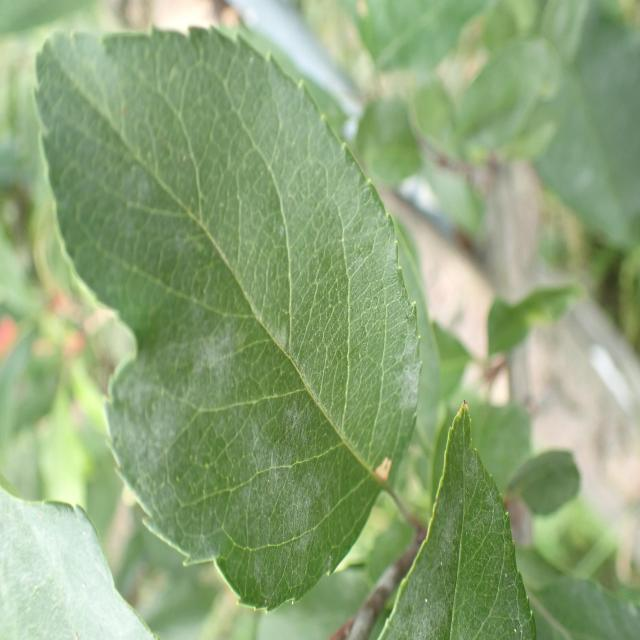Powdery_mildew: (28, 25, 427, 603), (323, 410, 546, 640)
